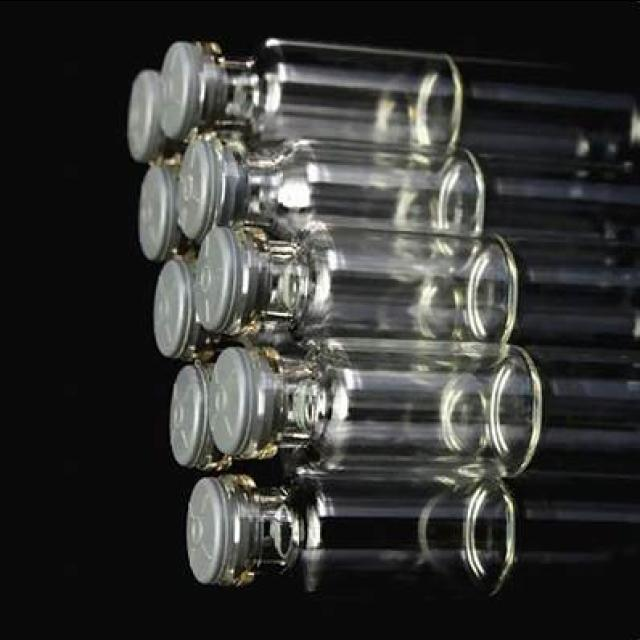vial: (172, 142, 228, 234), (134, 151, 180, 256), (214, 354, 262, 449), (167, 361, 204, 466), (195, 236, 237, 328), (188, 478, 225, 582), (160, 39, 203, 128), (127, 58, 164, 152), (154, 262, 188, 354)
